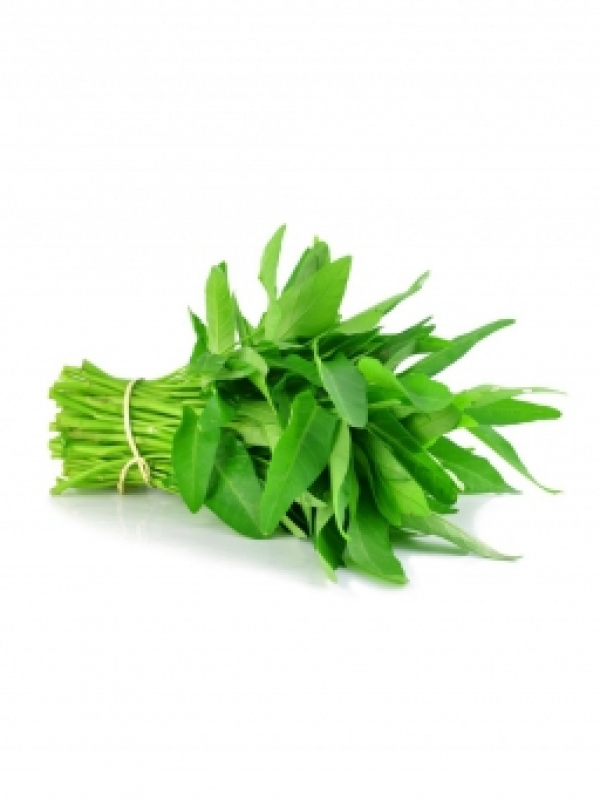Kangkung: (57, 208, 576, 661)
